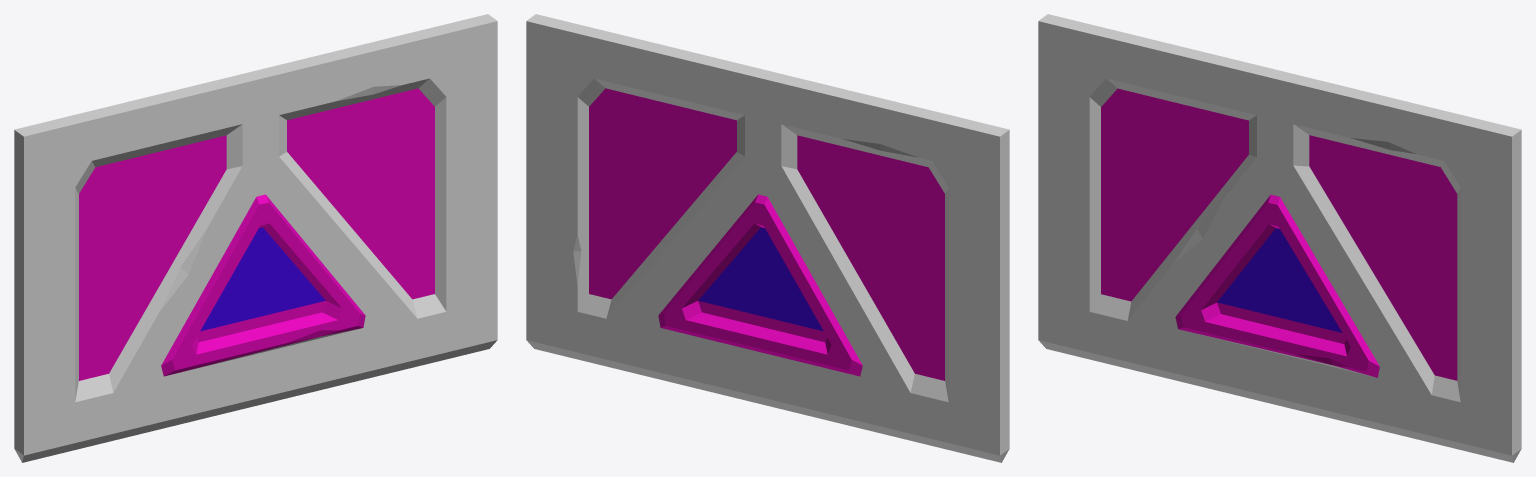
File: SM_Door_Double_01.fbx
3 renders of one model, left to right at view 1: azimuth 30°, elevation 25°; view 2: azimuth 150°, elevation 25°; view 3: azimuth 330°, elevation 25°, orthographic.
Parts seen in each view (by area): view 1: SM_Door_Double_01; view 2: SM_Door_Double_01; view 3: SM_Door_Double_01.
Boxes of the visible parts, <box> form: SM_Door_Double_01: <box>14,14,497,462</box>; SM_Door_Double_01: <box>526,14,1009,462</box>; SM_Door_Double_01: <box>1038,14,1521,462</box>.
Bounding box in the file's own units: 9 × 6 × 0.5.
